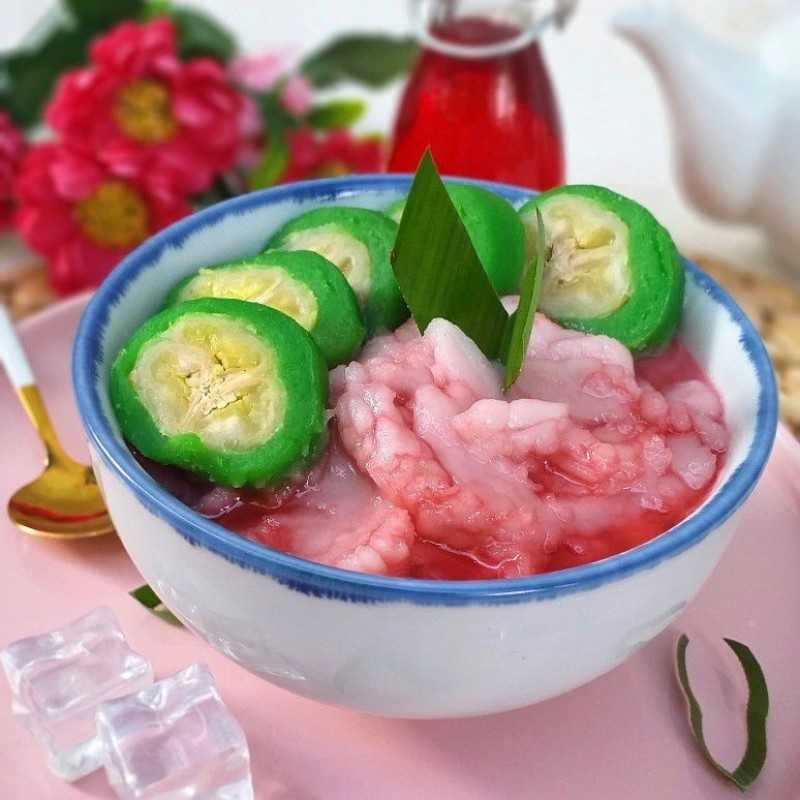pisang_ijo: (68, 300, 347, 519)
